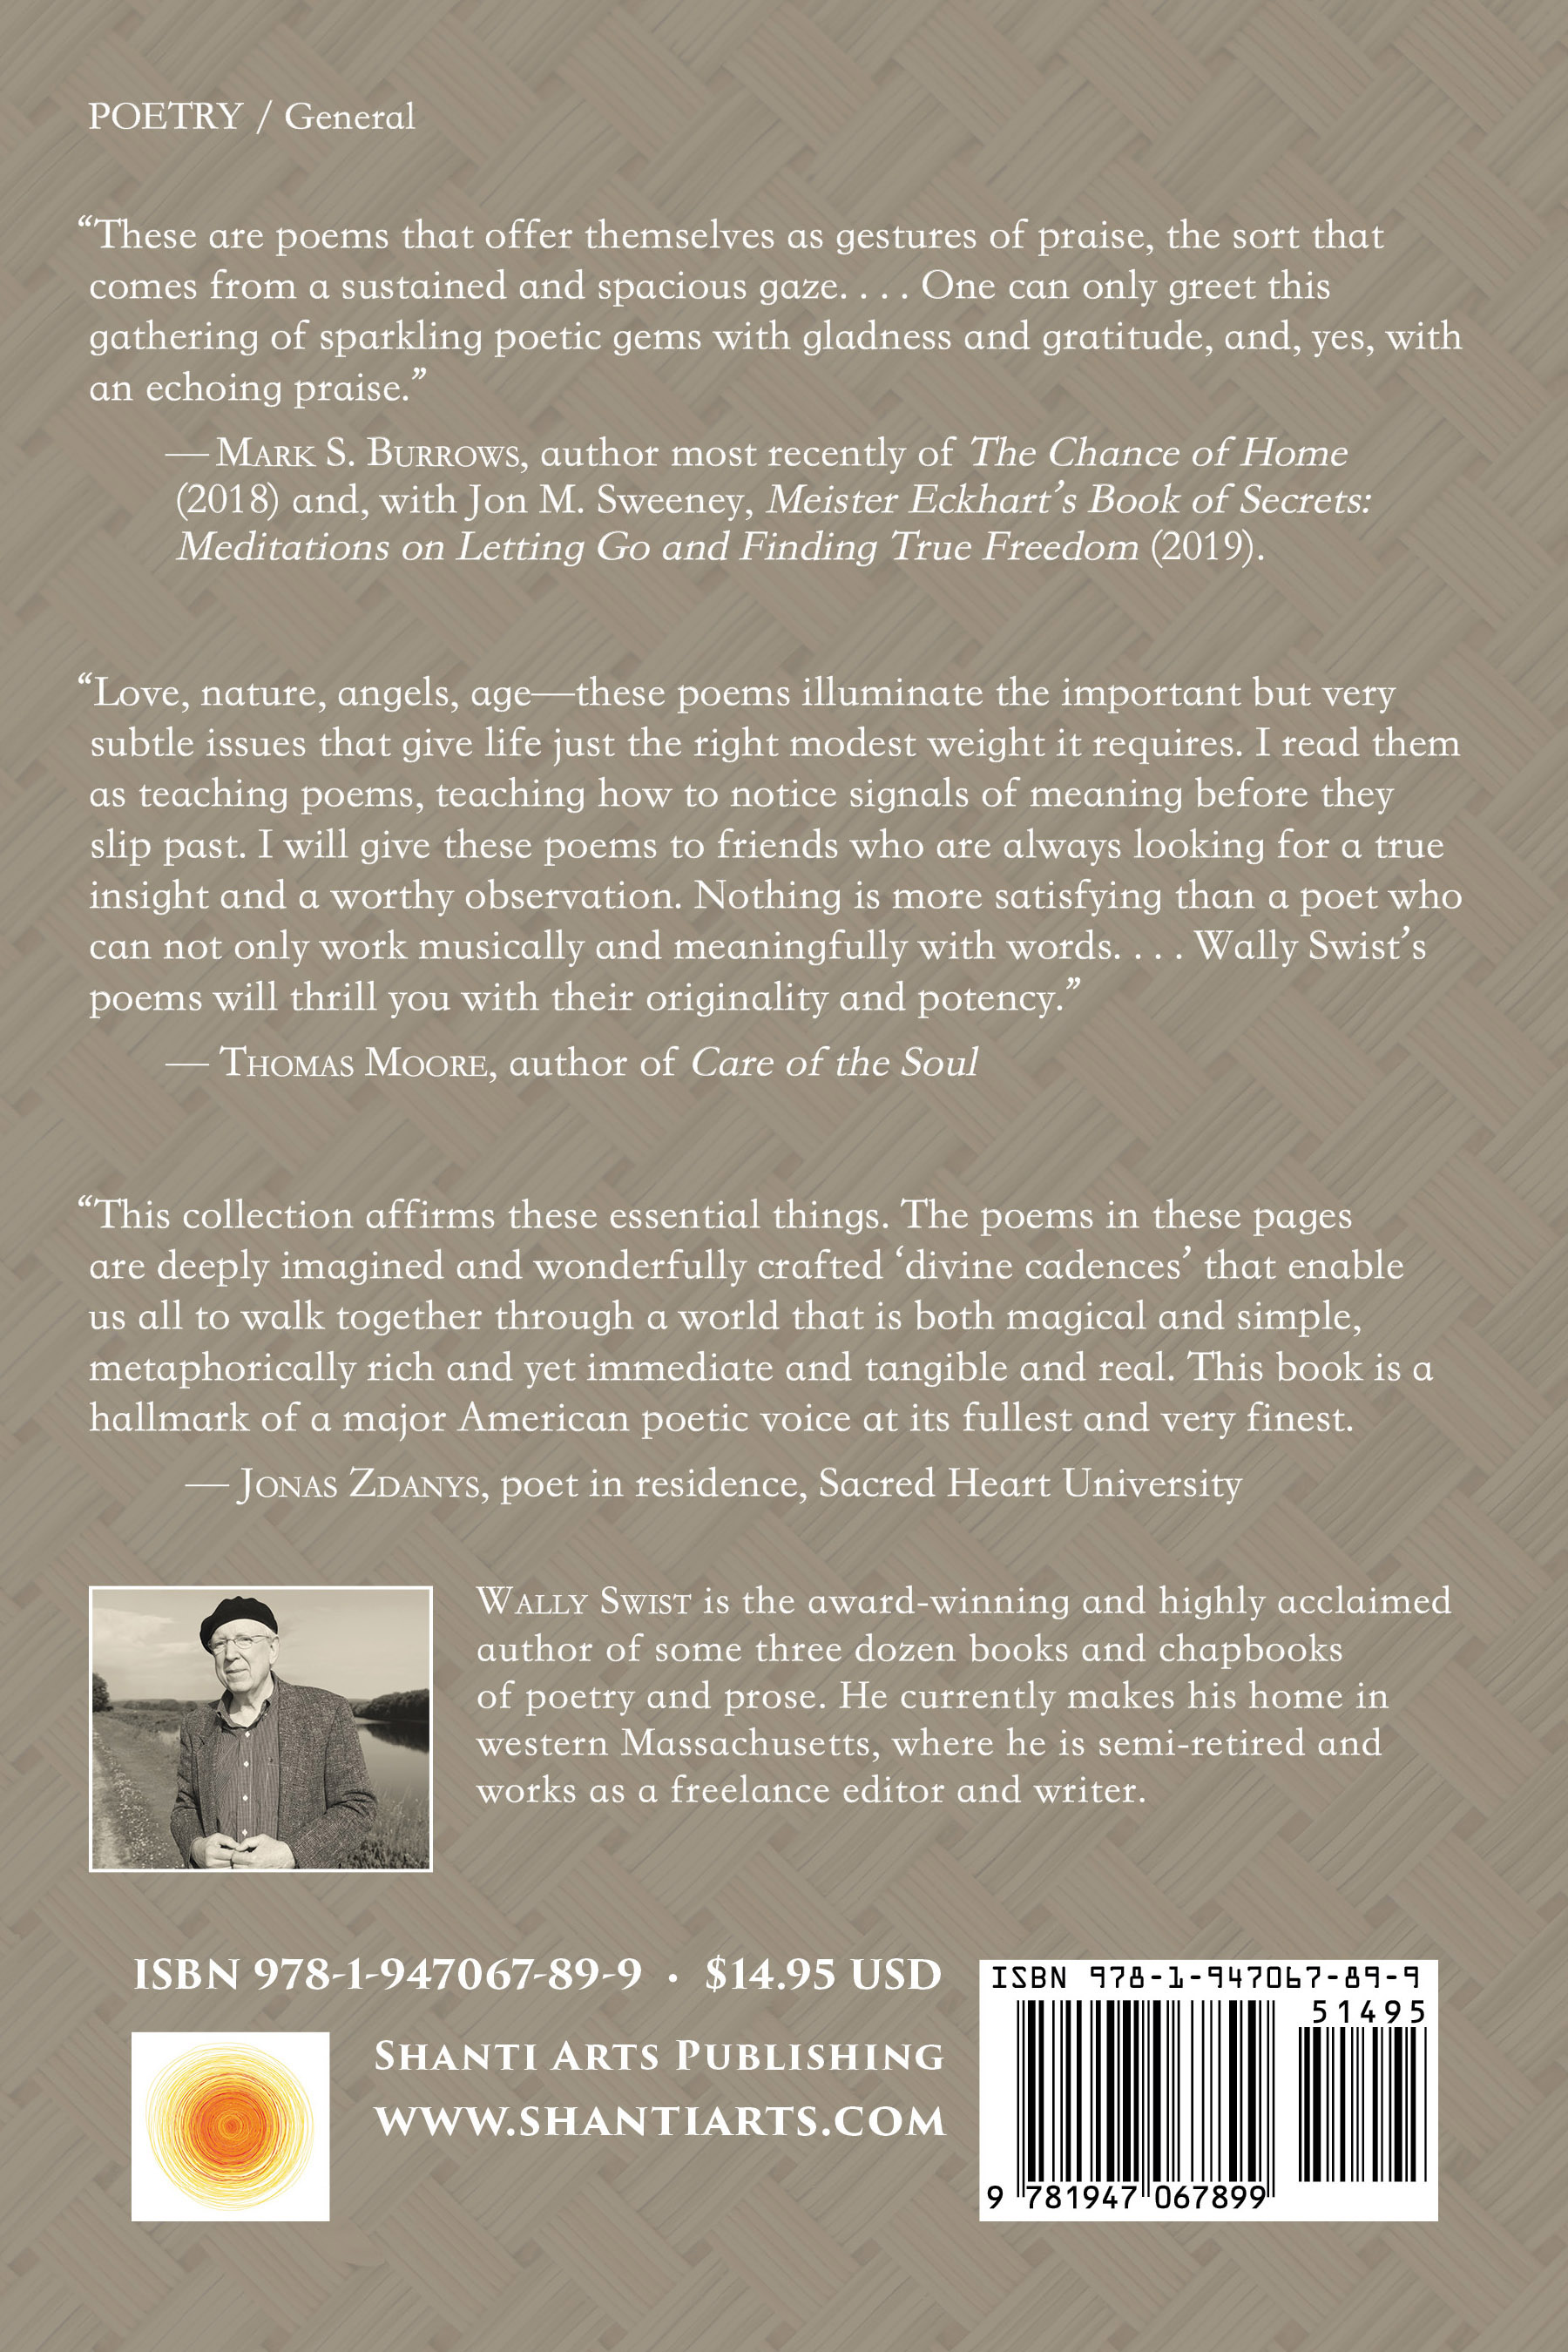barcode: (985, 1939, 1444, 2250)
